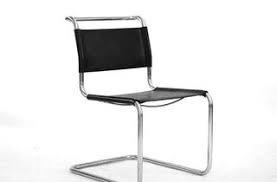chair: (62, 8, 220, 179)
